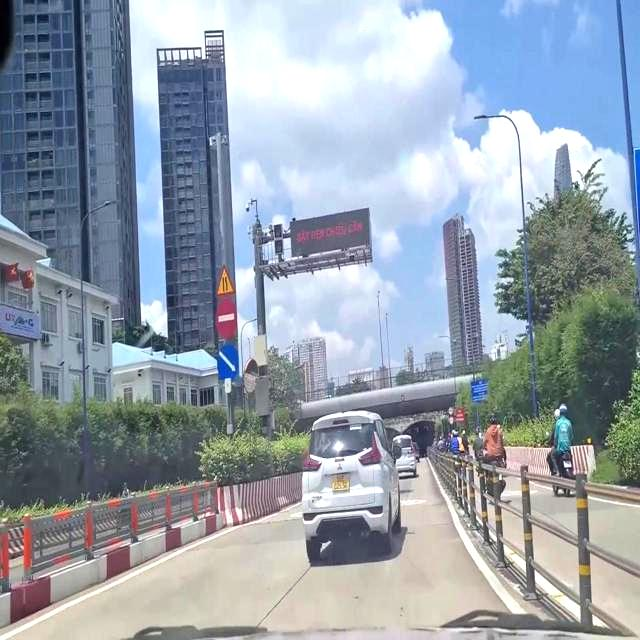Cấm đi ngược chiều: (215, 297, 238, 340)
Hướng phải đi vòng sang phải: (216, 344, 238, 382)
Khác: (469, 379, 493, 406)
Đường hẹp: (215, 263, 235, 297)
